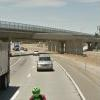Bridge: (2, 9, 85, 50)
